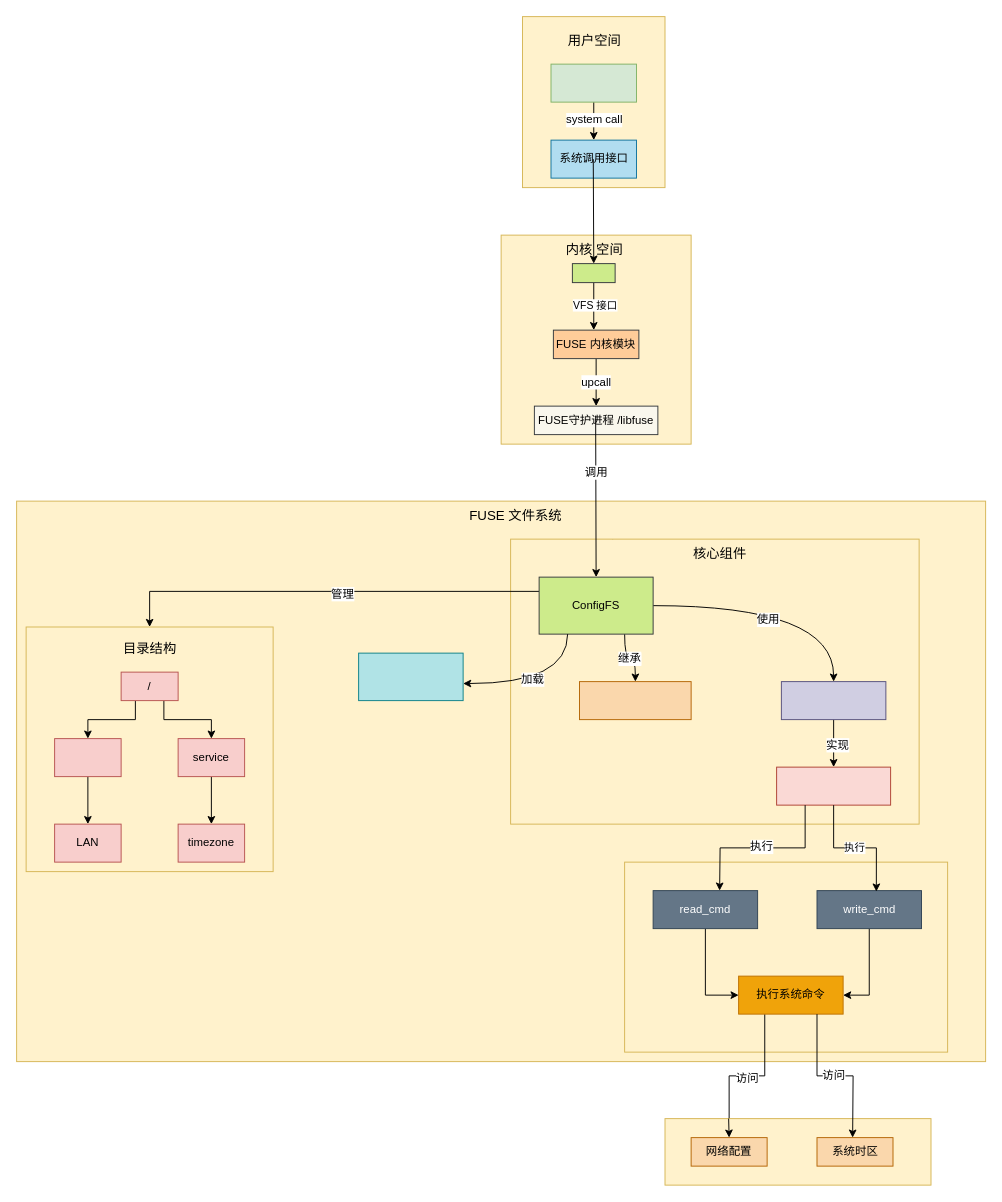
The diagram is 1002 pixels wide and 1202 high, and some of its shapes have lost their labels. Each missing label, with the centre of its shape:
"CommandFile" goes at (833,785).
"config.yaml" goes at (410,676).
"FUSE Operations" goes at (635,700).
"network" goes at (87,757).
"VFS" goes at (593,273).
"VirtualFile" goes at (833,700).
"用户程序" goes at (593,82).
